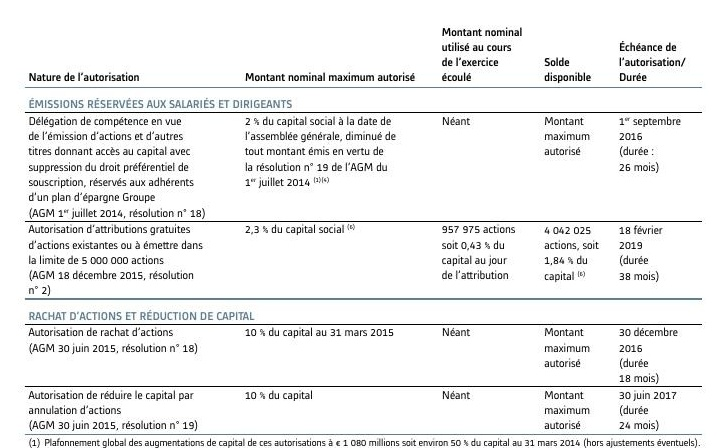table: (0, 0, 717, 448)
